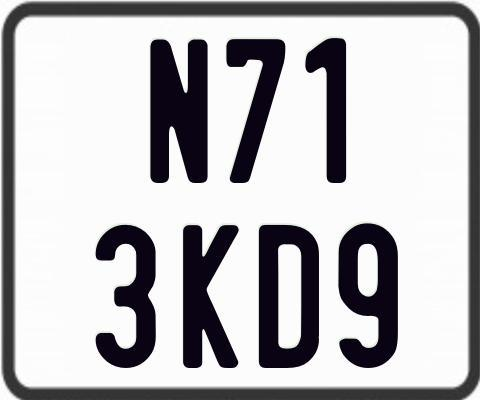1: (305, 36, 352, 183)
3: (93, 225, 157, 374)
7: (226, 39, 288, 187)
9: (337, 221, 397, 372)
D: (258, 222, 320, 366)
K: (181, 224, 242, 372)
N: (149, 38, 210, 187)
